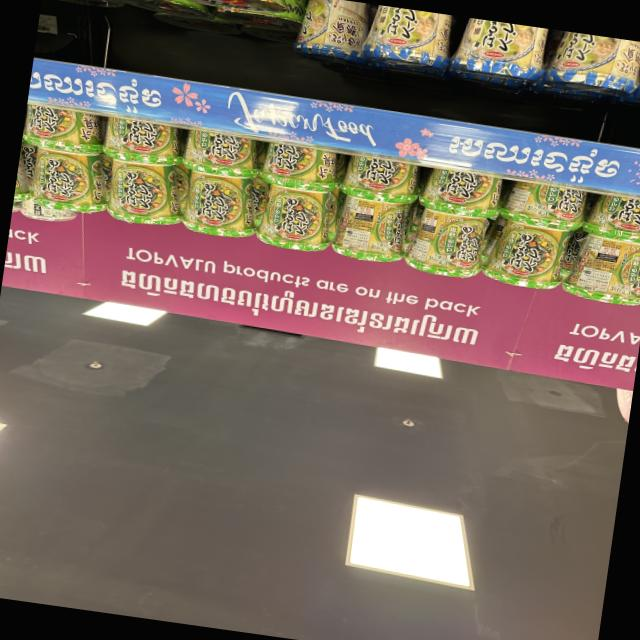Yolov11kh: (108, 257, 488, 359), (435, 126, 629, 196)
